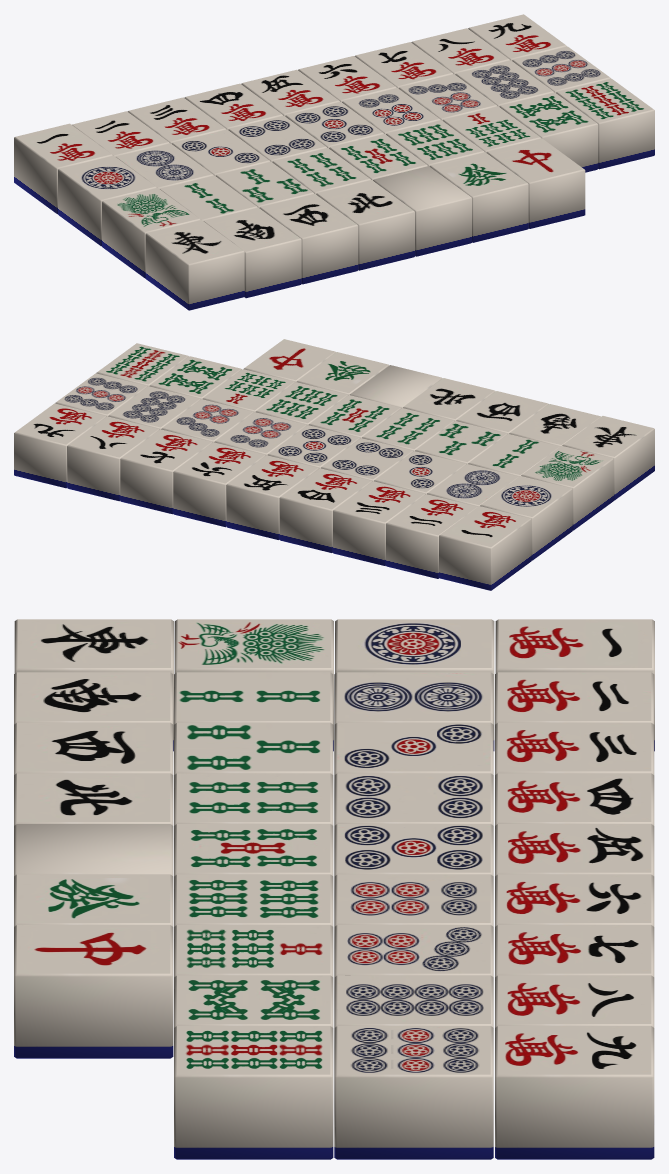
The model's file is MahjongPi_Blue.fbx.
The picture shows the model from 3 angles, top to bottom: view 1: azimuth 30°, elevation 25°; view 2: azimuth 150°, elevation 25°; view 3: azimuth 270°, elevation 25°; orthographic projection. The views are drawn at different scales.
Parts seen in each view (by area): view 1: JongPi_Etc_East_B, JongPi_Etc_Center_B, JongPi_Etc_West_B, JongPi_Etc_White_B, JongPi_Etc_Hatsu_B, JongPi_Etc_North_B, JongPi_Sowzu9_B, JongPi_Etc_South_B, JongPi_Manzu1_B, JongPi_Pinzu1_B, JongPi_Sowzu1_B, JongPi_Sowzu8_B (+22 smaller); view 2: JongPi_Manzu1_B, JongPi_Manzu5_B, JongPi_Manzu4_B, JongPi_Manzu6_B, JongPi_Manzu8_B, JongPi_Manzu7_B, JongPi_Manzu9_B, JongPi_Manzu3_B, JongPi_Manzu2_B, JongPi_Pinzu1_B, JongPi_Sowzu1_B, JongPi_Etc_East_B (+22 smaller); view 3: JongPi_Manzu9_B, JongPi_Pinzu9_B, JongPi_Sowzu9_B, JongPi_Etc_Center_B, JongPi_Pinzu1_B, JongPi_Sowzu1_B, JongPi_Manzu1_B, JongPi_Etc_East_B, JongPi_Pinzu3_B, JongPi_Sowzu3_B, JongPi_Etc_West_B, JongPi_Manzu3_B (+22 smaller).
Boxes of the visible parts, left/top/right/bottom form: JongPi_Etc_East_B: left=145, top=220, right=244, bottom=310; JongPi_Etc_Center_B: left=486, top=138, right=585, bottom=228; JongPi_Etc_West_B: left=259, top=194, right=358, bottom=284; JongPi_Etc_White_B: left=373, top=166, right=471, bottom=256; JongPi_Etc_Hatsu_B: left=429, top=152, right=528, bottom=242; JongPi_Etc_North_B: left=316, top=180, right=414, bottom=270; JongPi_Sowzu9_B: left=556, top=78, right=654, bottom=169; JongPi_Etc_South_B: left=203, top=207, right=301, bottom=298; JongPi_Manzu1_B: left=14, top=123, right=112, bottom=214; JongPi_Pinzu1_B: left=58, top=155, right=156, bottom=246; JongPi_Sowzu1_B: left=102, top=188, right=200, bottom=278; JongPi_Sowzu8_B: left=499, top=92, right=598, bottom=172; JongPi_Manzu1_B: left=439, top=506, right=531, bottom=590; JongPi_Manzu5_B: left=226, top=455, right=318, bottom=539; JongPi_Manzu4_B: left=279, top=468, right=372, bottom=552; JongPi_Manzu6_B: left=173, top=442, right=265, bottom=527; JongPi_Manzu8_B: left=67, top=416, right=159, bottom=501; JongPi_Manzu7_B: left=120, top=429, right=212, bottom=514; JongPi_Manzu9_B: left=14, top=403, right=106, bottom=488; JongPi_Manzu3_B: left=333, top=481, right=425, bottom=565; JongPi_Manzu2_B: left=386, top=494, right=477, bottom=578; JongPi_Pinzu1_B: left=480, top=476, right=572, bottom=560; JongPi_Sowzu1_B: left=521, top=446, right=613, bottom=530; JongPi_Etc_East_B: left=562, top=416, right=654, bottom=500; JongPi_Manzu9_B: left=495, top=1026, right=654, bottom=1159; JongPi_Pinzu9_B: left=334, top=1026, right=493, bottom=1159; JongPi_Sowzu9_B: left=174, top=1026, right=333, bottom=1159; JongPi_Etc_Center_B: left=14, top=925, right=173, bottom=1058; JongPi_Pinzu1_B: left=335, top=619, right=494, bottom=750; JongPi_Sowzu1_B: left=174, top=619, right=333, bottom=751; JongPi_Manzu1_B: left=495, top=619, right=654, bottom=751; JongPi_Etc_East_B: left=14, top=619, right=173, bottom=751; JongPi_Pinzu3_B: left=334, top=722, right=493, bottom=774; JongPi_Sowzu3_B: left=174, top=722, right=333, bottom=774; JongPi_Etc_West_B: left=14, top=722, right=173, bottom=774; JongPi_Manzu3_B: left=495, top=722, right=654, bottom=774.
Size of the model in its own units: 18.91 by 1.7 by 11.26.
